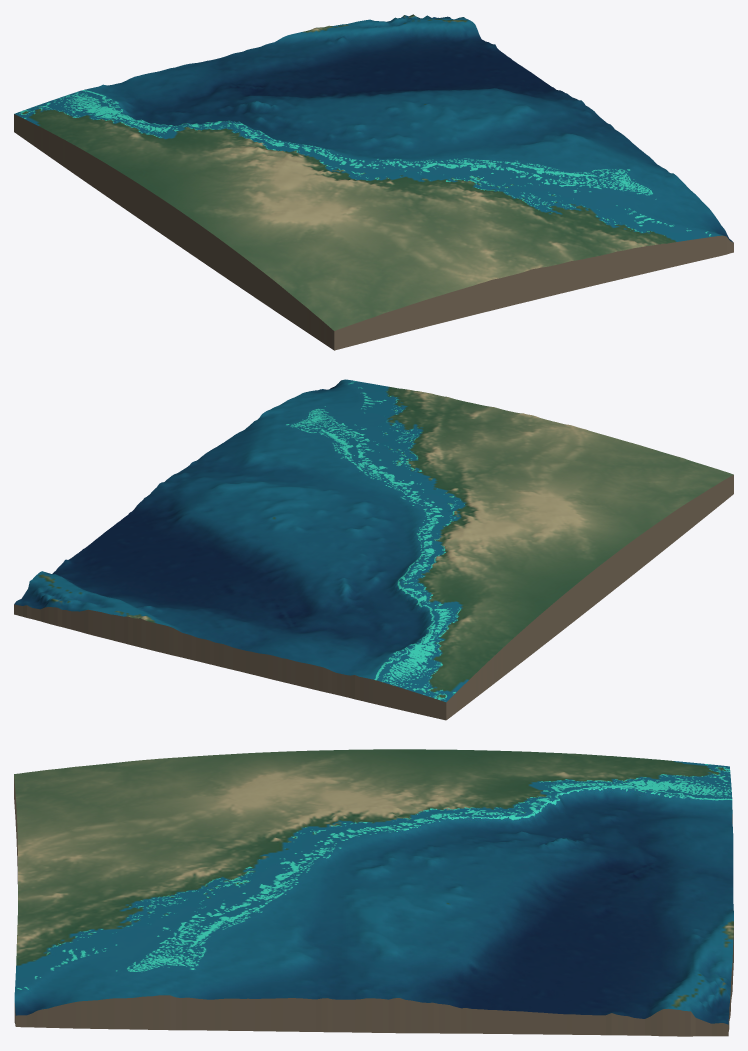
The model's file is terrain3d-great-barrier-reef.glb.
3 renders of one model, top to bottom at view 1: azimuth 30°, elevation 25°; view 2: azimuth 150°, elevation 25°; view 3: azimuth 270°, elevation 25°, orthographic. The views are drawn at different scales.
Visible parts, largest first — view 1: Measured elevation surface, Opaque geographic crop sides; view 2: Measured elevation surface, Opaque geographic crop sides; view 3: Measured elevation surface, Opaque geographic crop sides.
Part boxes in pixels (left/top/right/bottom): Measured elevation surface: left=14, top=14, right=733, bottom=330; Opaque geographic crop sides: left=14, top=114, right=733, bottom=350; Measured elevation surface: left=14, top=379, right=733, bottom=702; Opaque geographic crop sides: left=14, top=475, right=733, bottom=720; Measured elevation surface: left=14, top=749, right=733, bottom=1024; Opaque geographic crop sides: left=14, top=776, right=733, bottom=1036.
Bounding box in the file's own units: 1286146 × 135102 × 1572475.
Materials: 2 (1 with a texture image).
